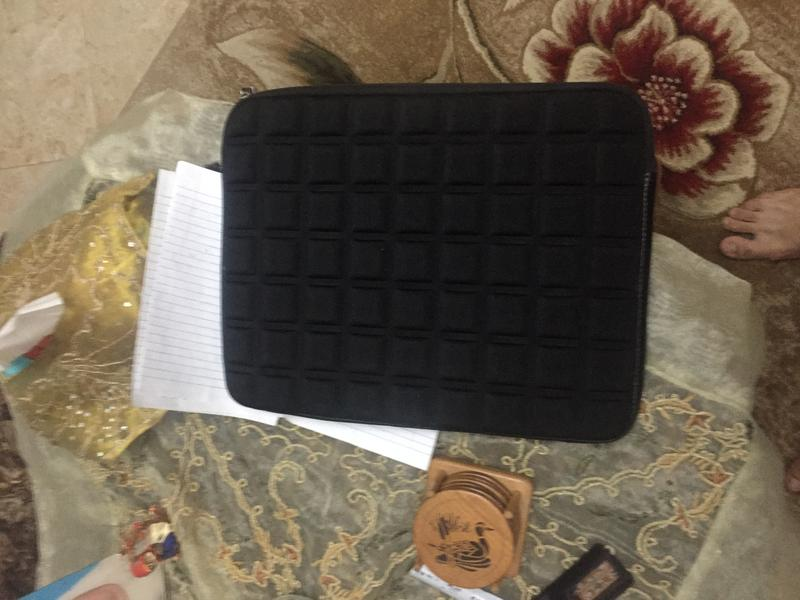cover: (214, 78, 662, 446)
